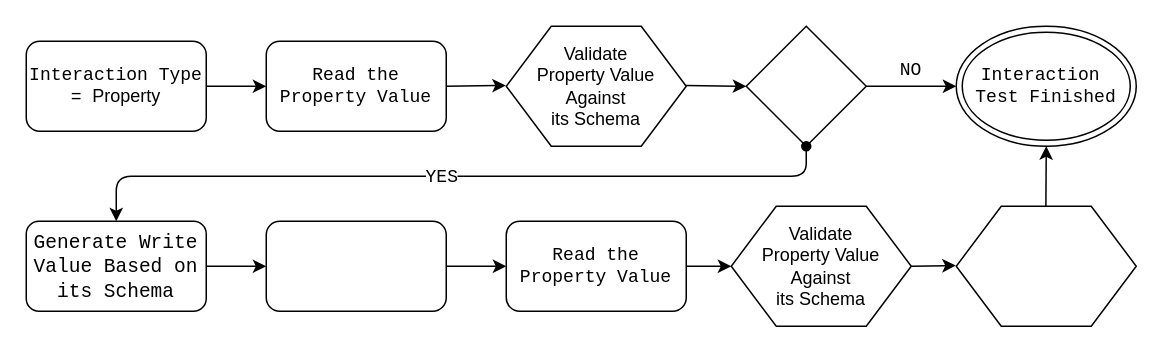
Some shapes in this 1163 by 353 pixel diagram are drawn without their labels. The shapes that lost their labels are listed below. From the top down, each one's box as (x1, y1, x2, y2) in pixels, then its label:
(745, 25, 866, 146): writable?
(265, 220, 446, 311): Write to the Property with the Generated Write Value
(955, 205, 1136, 326): Compare the Values from the Two Read Operations
